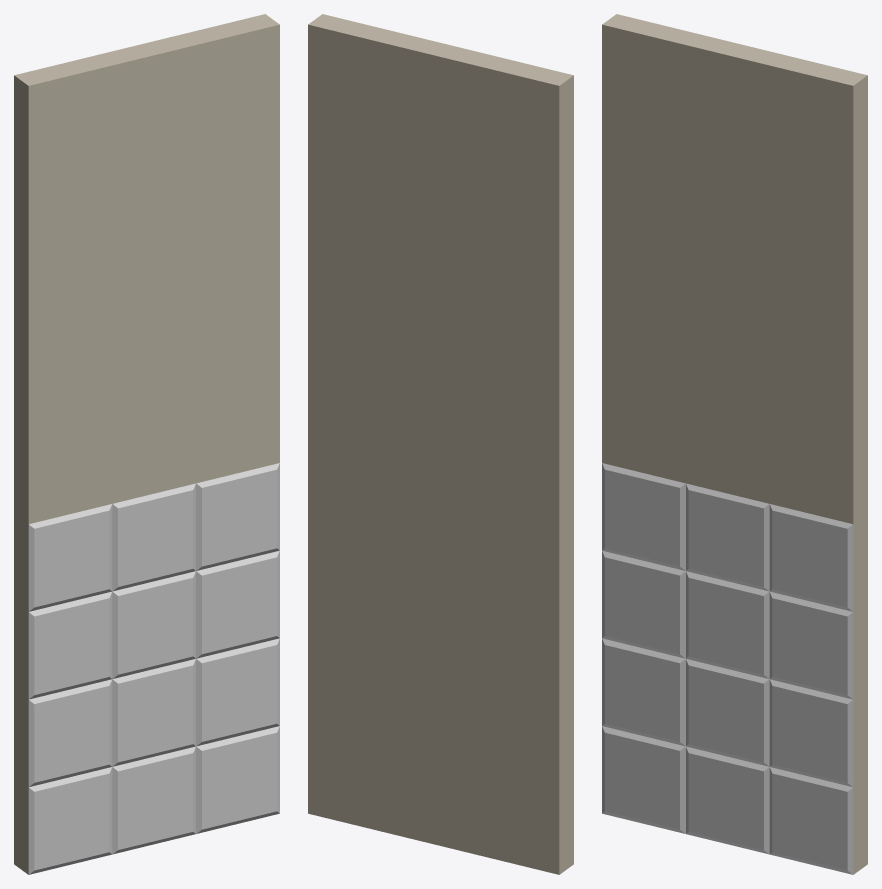
The model's file is Mesh_WallHalfCeramic_A1.fbx.
3 renders of one model, left to right at view 1: azimuth 30°, elevation 25°; view 2: azimuth 150°, elevation 25°; view 3: azimuth 330°, elevation 25°, orthographic.
Parts seen in each view (by area): view 1: Mesh_WallHalfCeramic_A1; view 2: Mesh_WallHalfCeramic_A1; view 3: Mesh_WallHalfCeramic_A1.
Part boxes in pixels (bbox=[...]): Mesh_WallHalfCeramic_A1: bbox=[14, 14, 279, 874]; Mesh_WallHalfCeramic_A1: bbox=[308, 14, 573, 874]; Mesh_WallHalfCeramic_A1: bbox=[602, 14, 867, 874].
Bounding box in the file's own units: 1 × 3 × 0.1104.
